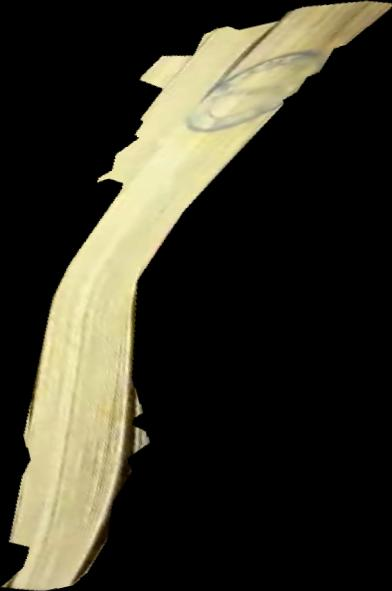backward: (1, 1, 392, 591)
